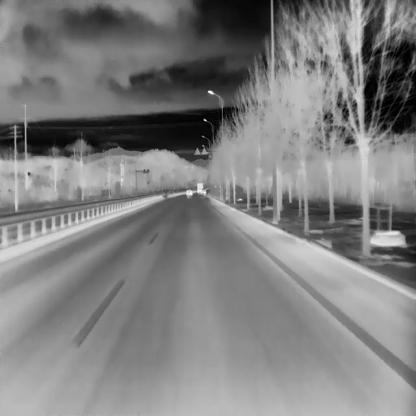car: (186, 188, 192, 195), (201, 188, 206, 194)
truck: (196, 182, 204, 194)
